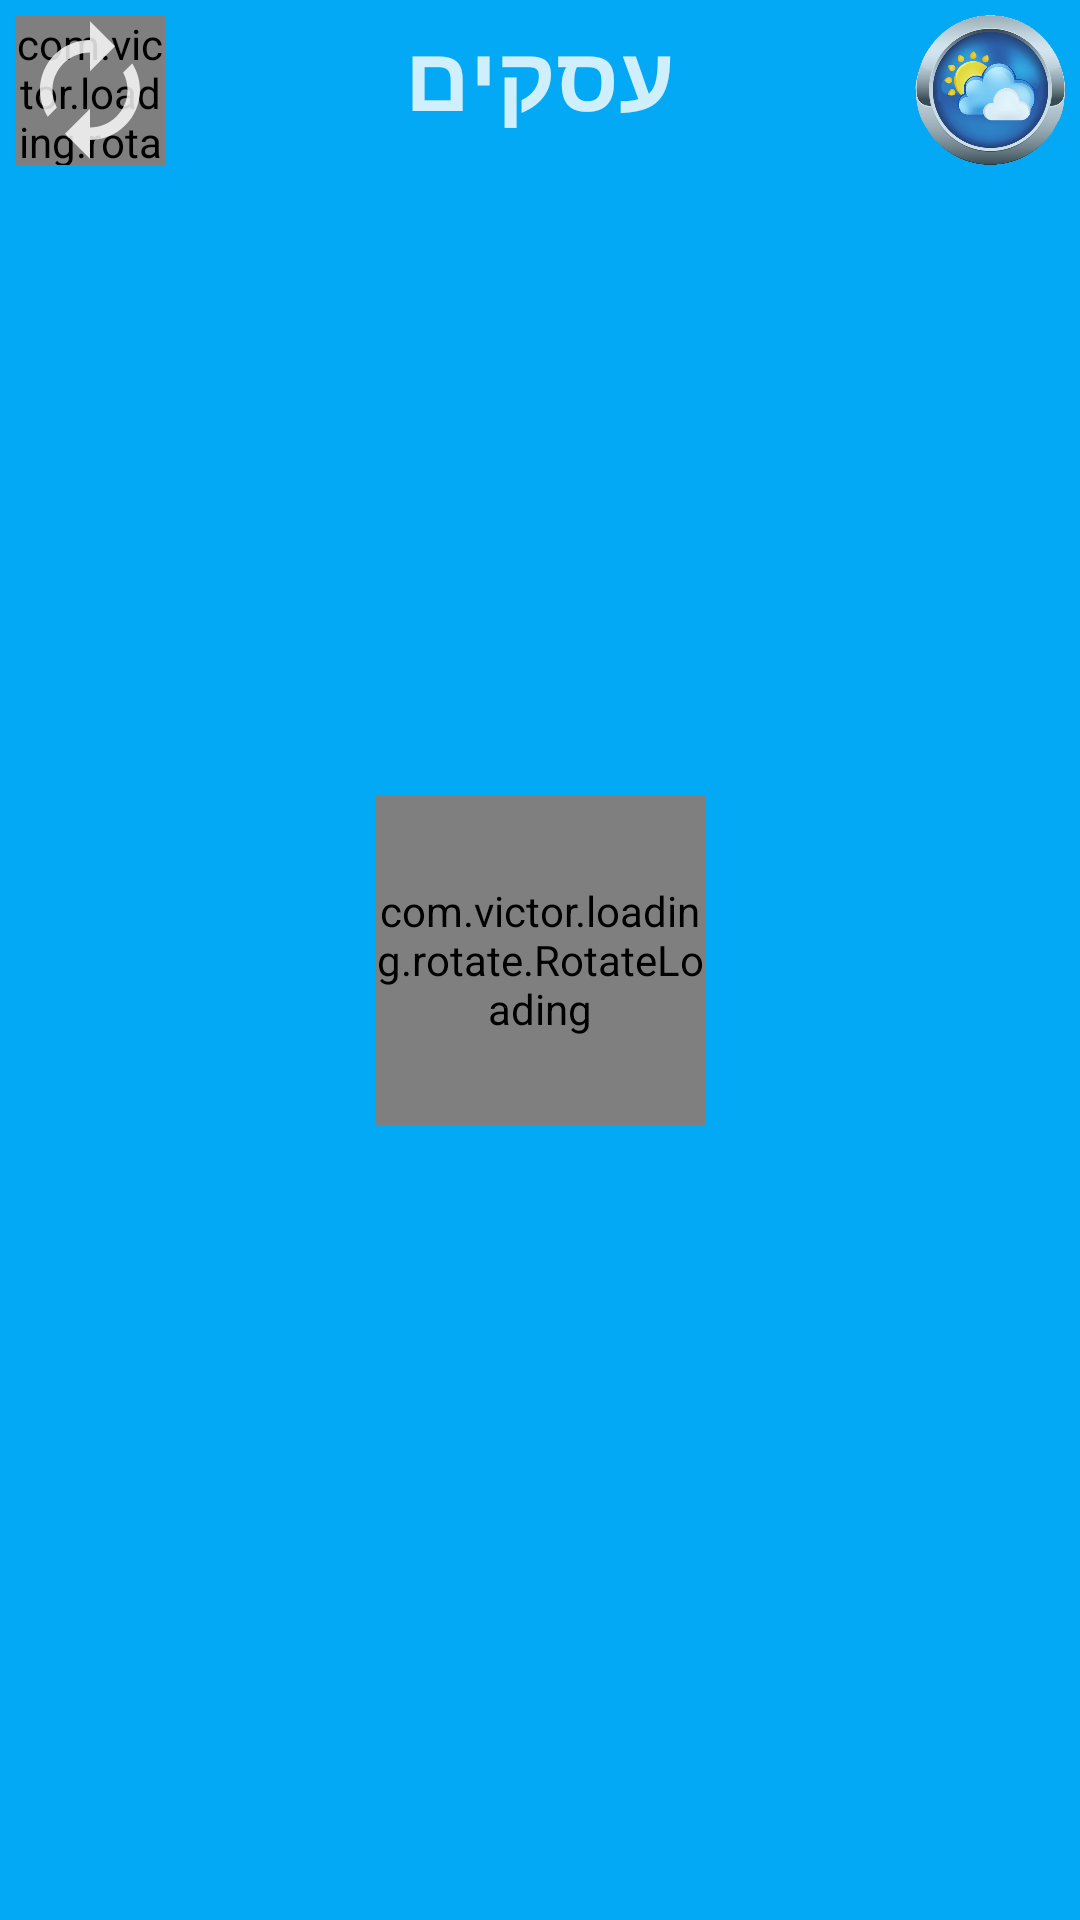

Icon click points for this 1080 × 1920 phone screenshot, format (x,y):
refresh: (90,90)
